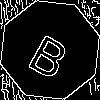B: (25, 25, 77, 81)
